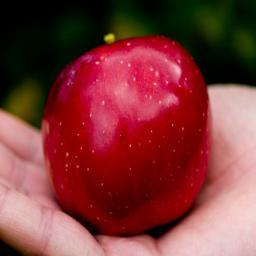apple: (41, 37, 212, 238)
